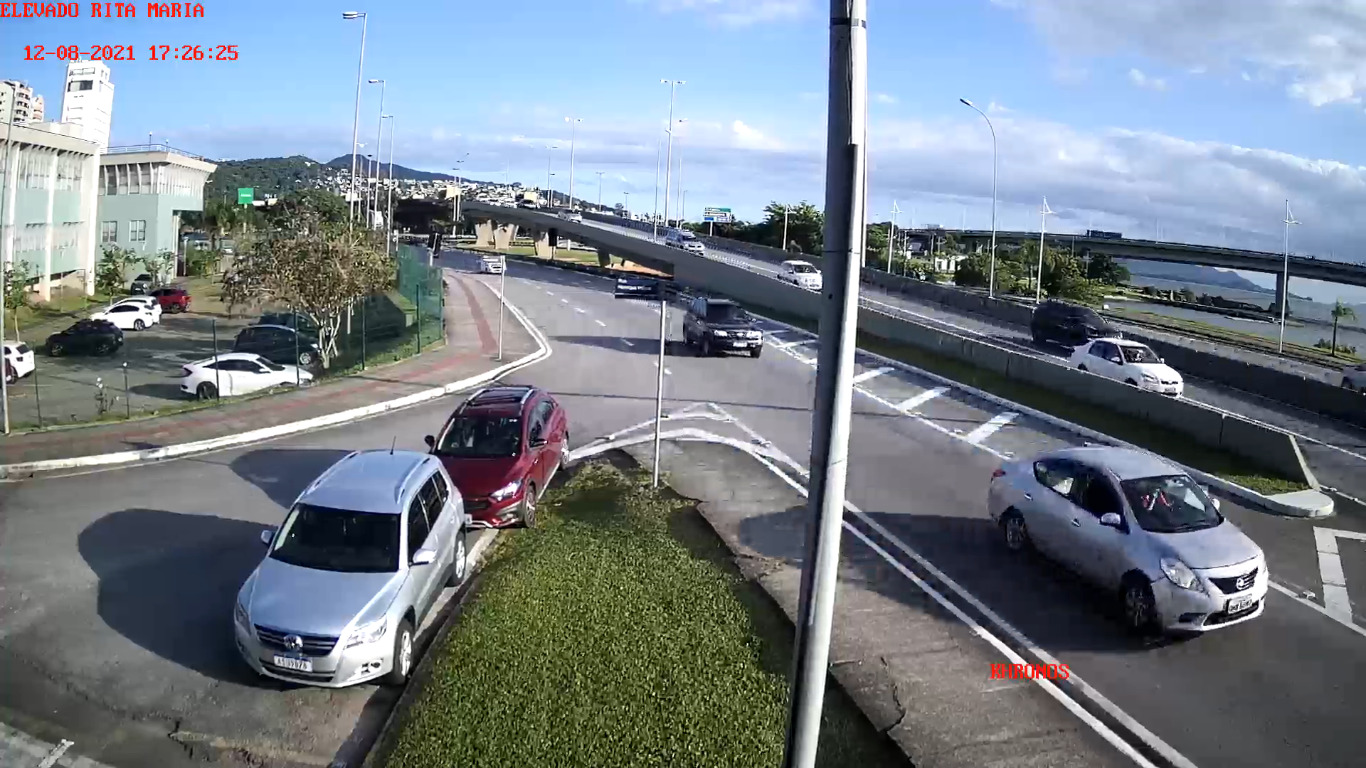car: (232, 449, 467, 692), (988, 443, 1268, 634), (424, 383, 571, 527), (683, 295, 763, 359)
